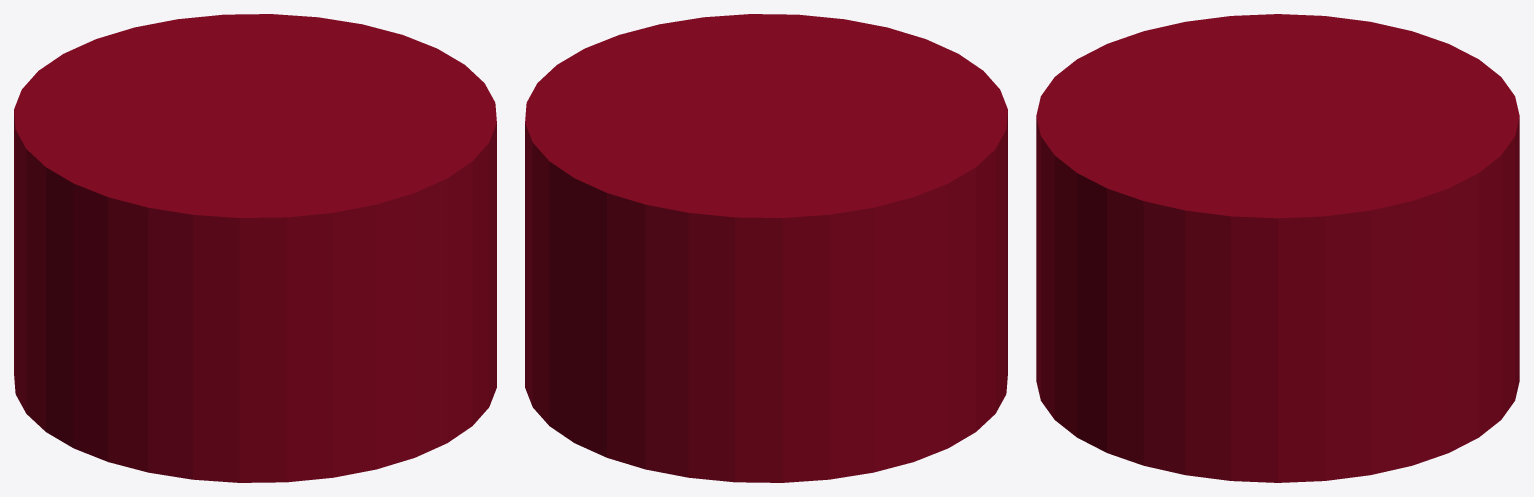
File: lidar.dae
3 views of the same model, side by side, from view 1: azimuth 30°, elevation 25°; view 2: azimuth 150°, elevation 25°; view 3: azimuth 270°, elevation 25° (orthographic).
Visible parts, largest first — view 1: leida; view 2: leida; view 3: leida.
Boxes of the visible parts, left/top/right/bottom form: leida: left=14, top=14, right=496, bottom=482; leida: left=525, top=14, right=1007, bottom=482; leida: left=1036, top=14, right=1519, bottom=482.
Bounding box in the file's own units: 0.1033 × 0.1033 × 0.0624.
1 material, 1 textured.
